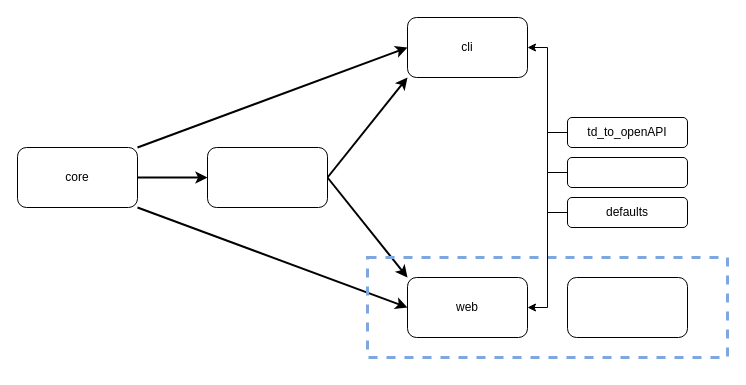
Some shapes in this 746 by 385 pixel diagram are drawn without their labels. Here are the shapes that lost their labels. From the top down, the centre of each, then its label:
[267,177]: assertions
[627,172]: td_to_asyncapi
[627,307]: gist backend
